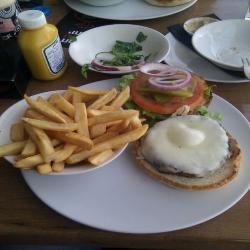burger: (126, 66, 240, 194)
fries: (15, 87, 132, 168)
salad: (104, 37, 152, 65)
